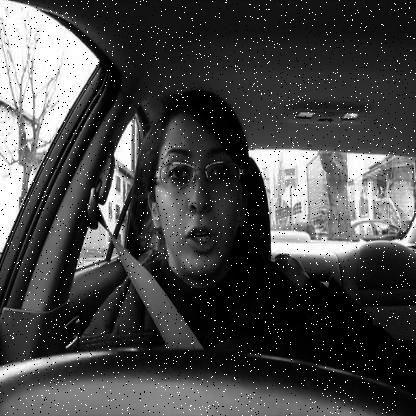seatbelt: (84, 83, 257, 349)
